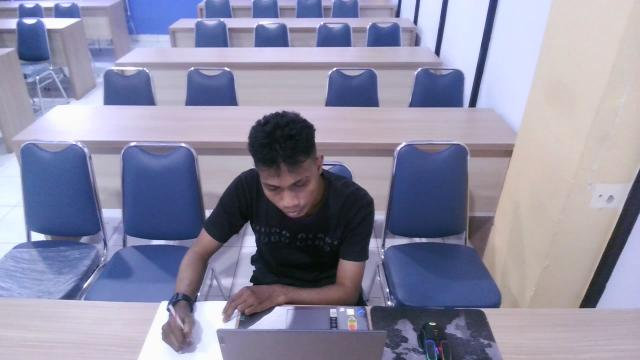Normal_Writing: (146, 104, 393, 360)
